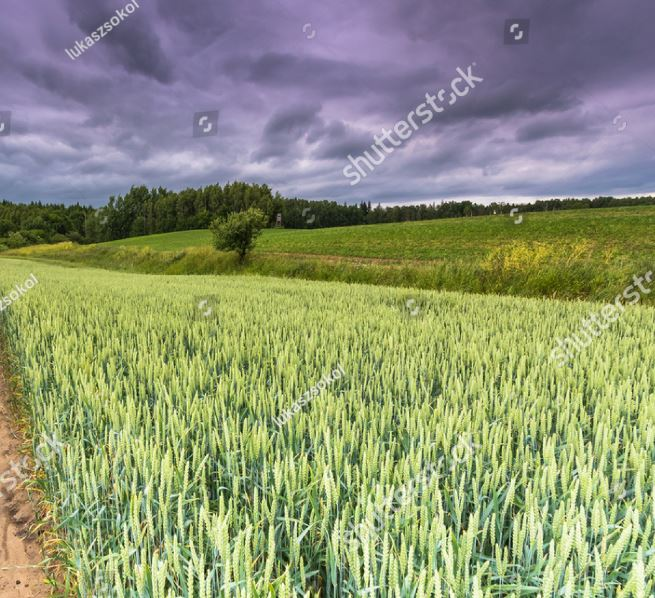Wheat: (73, 376, 629, 582)
